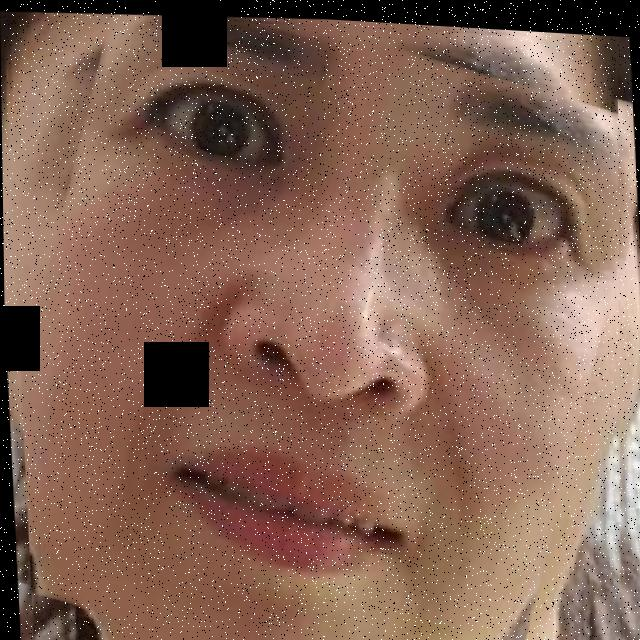anger: (2, 0, 640, 640)
